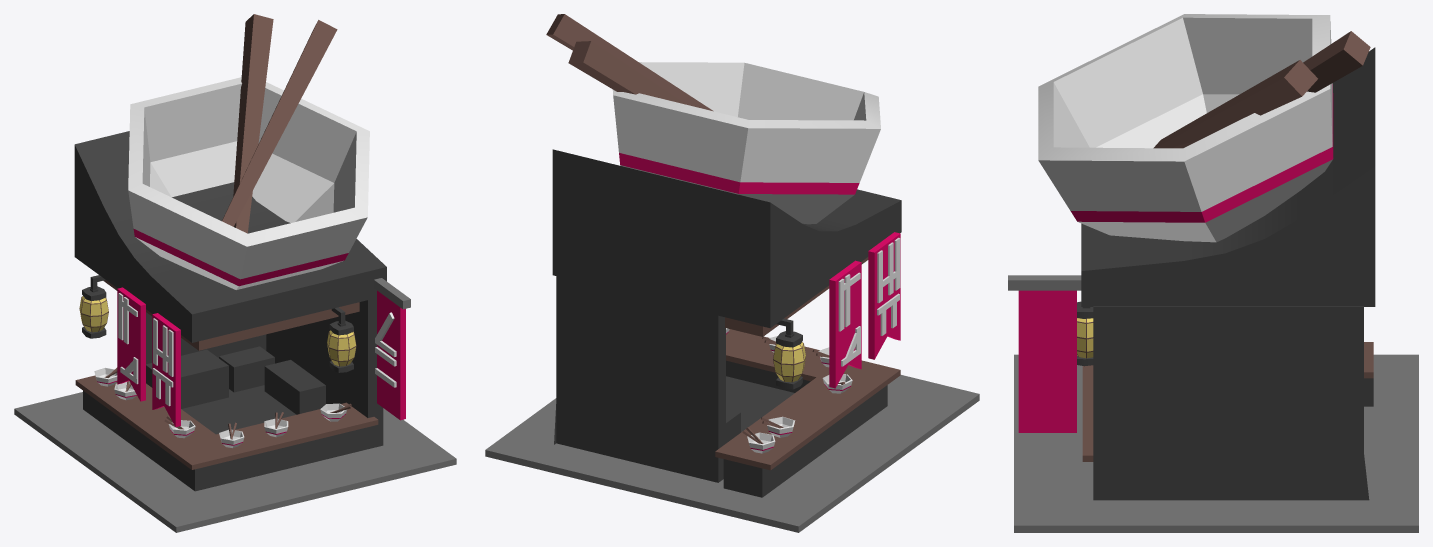
File: ramen.fbx
3 views of the same model, side by side, from view 1: azimuth 30°, elevation 25°; view 2: azimuth 150°, elevation 25°; view 3: azimuth 270°, elevation 25° (orthographic). The views are drawn at different scales.
Visible parts, largest first — view 1: pCube66; view 2: pCube66; view 3: pCube66.
Part boxes in pixels (x1,y1,x2,y2): pCube66: (14, 14, 456, 532); pCube66: (485, 14, 979, 532); pCube66: (1008, 14, 1418, 532).
Bounding box in the file's own units: 140 × 176 × 142.
